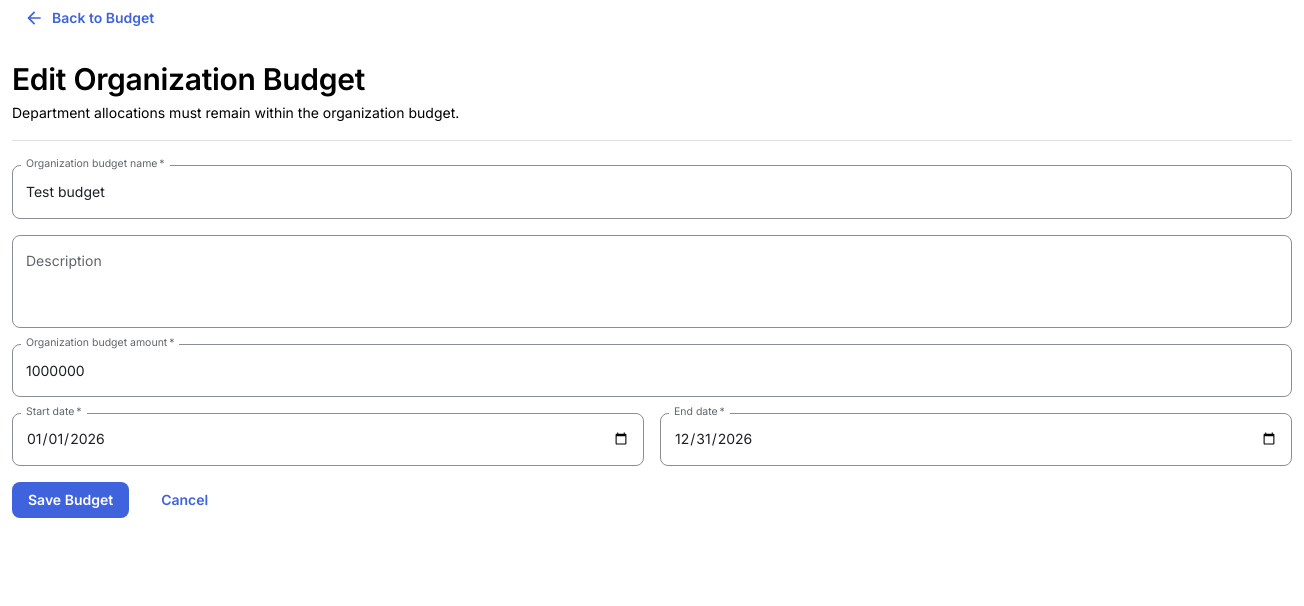
Test: EditBudgetPage › explains an invalid period as an alert and saves nothing
Type "2025-12-31" into the date field labelled "End date *" at (976, 439), box 660,413 -> 1292,466
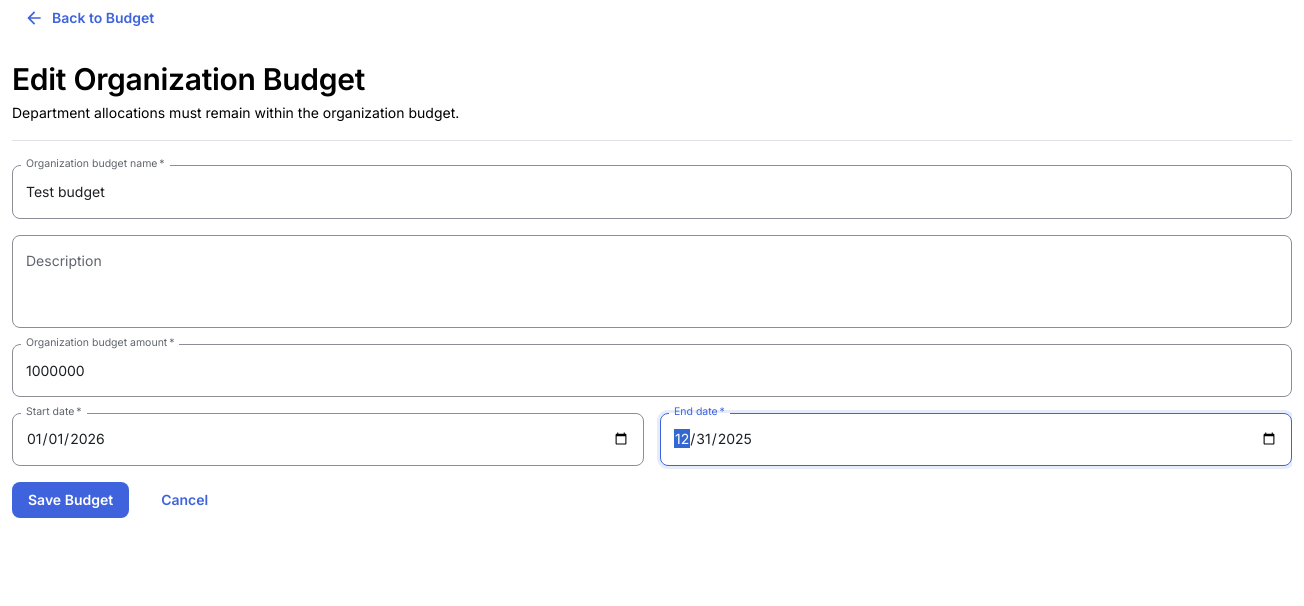
Click the button "Save Budget" at (71, 500), box 12,482 -> 129,518
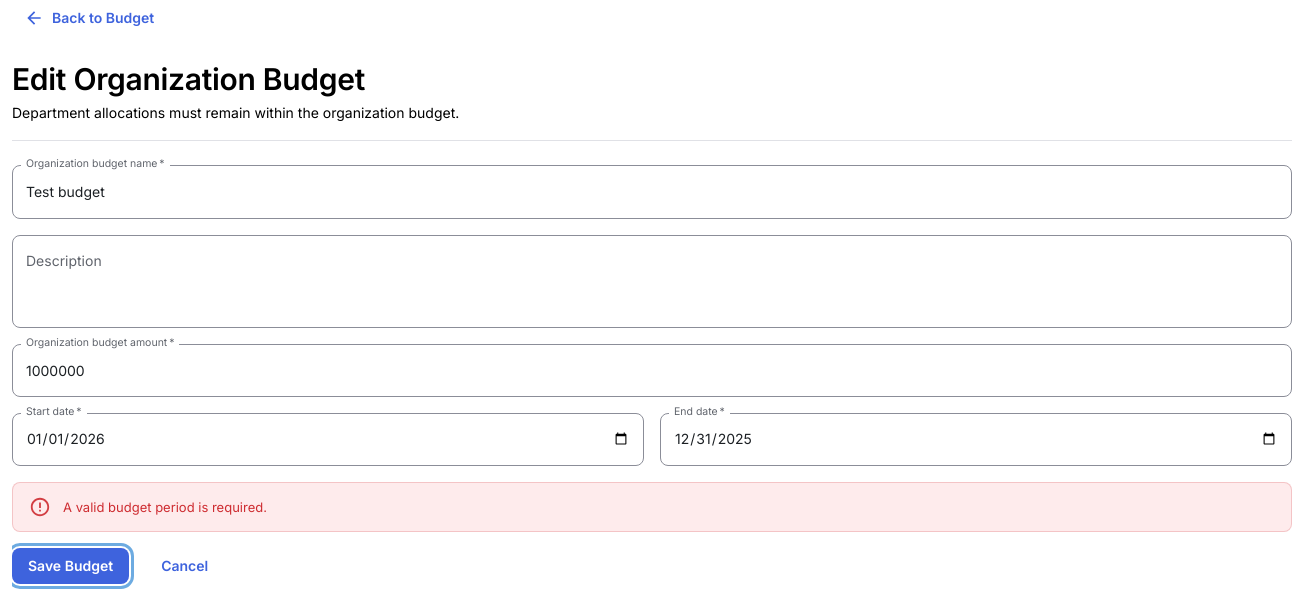
Result: the message reads "A valid budget period is required." at 63,499 -> 267,515
